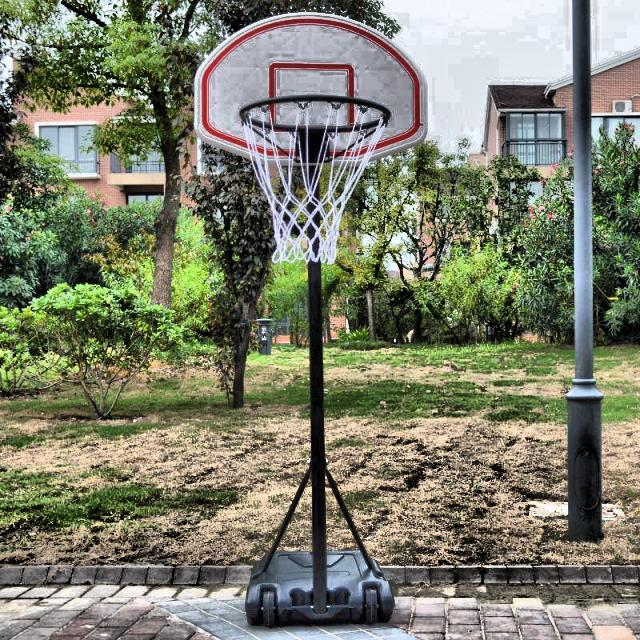rim: (240, 96, 392, 263)
